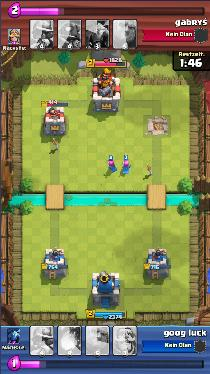ally_archer: (122, 159, 131, 174), (108, 160, 117, 172)
